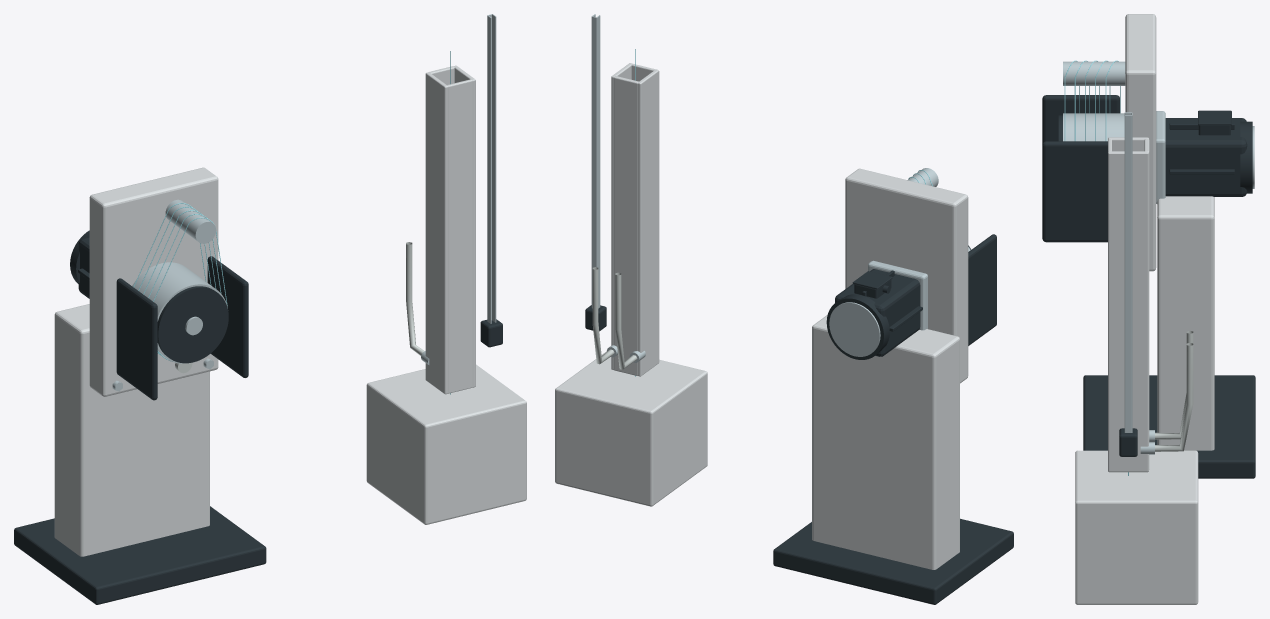
Rendered from barmag_efk_evosmart_station.glb.
The picture shows the model from 3 angles, left to right: view 1: azimuth 30°, elevation 25°; view 2: azimuth 150°, elevation 25°; view 3: azimuth 270°, elevation 25°; orthographic projection. The views are drawn at different scales.
Visible parts, largest first — view 1: EVS_smart_godet_station_frame, EVS_heater_stand, EVS_evoheater_shell, EVS_foot, EVS_smart_godet_station_shell, EVS_godet_cap, EVS_heater_insert_frame, EVS_smart_godet_roller, EVS_separator_barrel, EVS_wrap, EVS_smart_godet_motor_motor, EVS_evoheater_frame; view 2: EVS_smart_godet_station_frame, EVS_heater_stand, EVS_evoheater_shell, EVS_foot, EVS_smart_godet_motor_motor, EVS_smart_godet_motor_motor.001, EVS_smart_godet_station_shell, EVS_heater_insert_frame, EVS_evoheater_frame; view 3: EVS_smart_godet_station_frame, EVS_heater_stand, EVS_evoheater_shell, EVS_smart_godet_station_shell, EVS_foot, EVS_smart_godet_motor_motor, EVS_heater_insert_frame, EVS_smart_godet_roller, EVS_separator_barrel, EVS_evoheater_frame, EVS_smart_godet_motor_motor.001, EVS_wrap (+1 smaller).
Part boxes in pixels (x1,y1,x2,y2): EVS_smart_godet_station_frame: (54,167,218,556); EVS_heater_stand: (366,364,526,524); EVS_evoheater_shell: (425,65,475,394); EVS_foot: (14,506,266,604); EVS_smart_godet_station_shell: (116,256,248,400); EVS_godet_cap: (157,286,228,363); EVS_heater_insert_frame: (487,14,496,323); EVS_smart_godet_roller: (132,262,227,363); EVS_separator_barrel: (165,199,216,243); EVS_wrap: (133,203,227,361); EVS_smart_godet_motor_motor: (70,230,89,298); EVS_evoheater_frame: (406,242,424,355); EVS_smart_godet_station_frame: (812,168,968,569); EVS_heater_stand: (555,351,707,506); EVS_evoheater_shell: (611,63,659,376); EVS_foot: (773,518,1013,604); EVS_smart_godet_motor_motor: (826,269,922,359); EVS_smart_godet_motor_motor.001: (829,260,927,356); EVS_smart_godet_station_shell: (968,234,996,345); EVS_heater_insert_frame: (591,14,600,308); EVS_evoheater_frame: (592,267,637,369); EVS_smart_godet_station_frame: (1125,14,1214,450); EVS_heater_stand: (1075,450,1198,604); EVS_evoheater_shell: (1108,137,1149,472); EVS_smart_godet_station_shell: (1042,95,1119,242); EVS_foot: (1083,375,1255,478); EVS_smart_godet_motor_motor: (1165,110,1252,196); EVS_heater_insert_frame: (1124,112,1132,432); EVS_smart_godet_roller: (1063,113,1124,141); EVS_separator_barrel: (1063,61,1125,85); EVS_evoheater_frame: (1155,330,1193,451); EVS_smart_godet_motor_motor.001: (1156,111,1254,203); EVS_wrap: (1064,60,1120,141).
Size of the model in its own units: 1.25 by 1.32 by 0.52.
